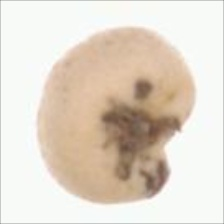L5: (100, 90, 174, 197)
L6: (33, 24, 197, 206)
